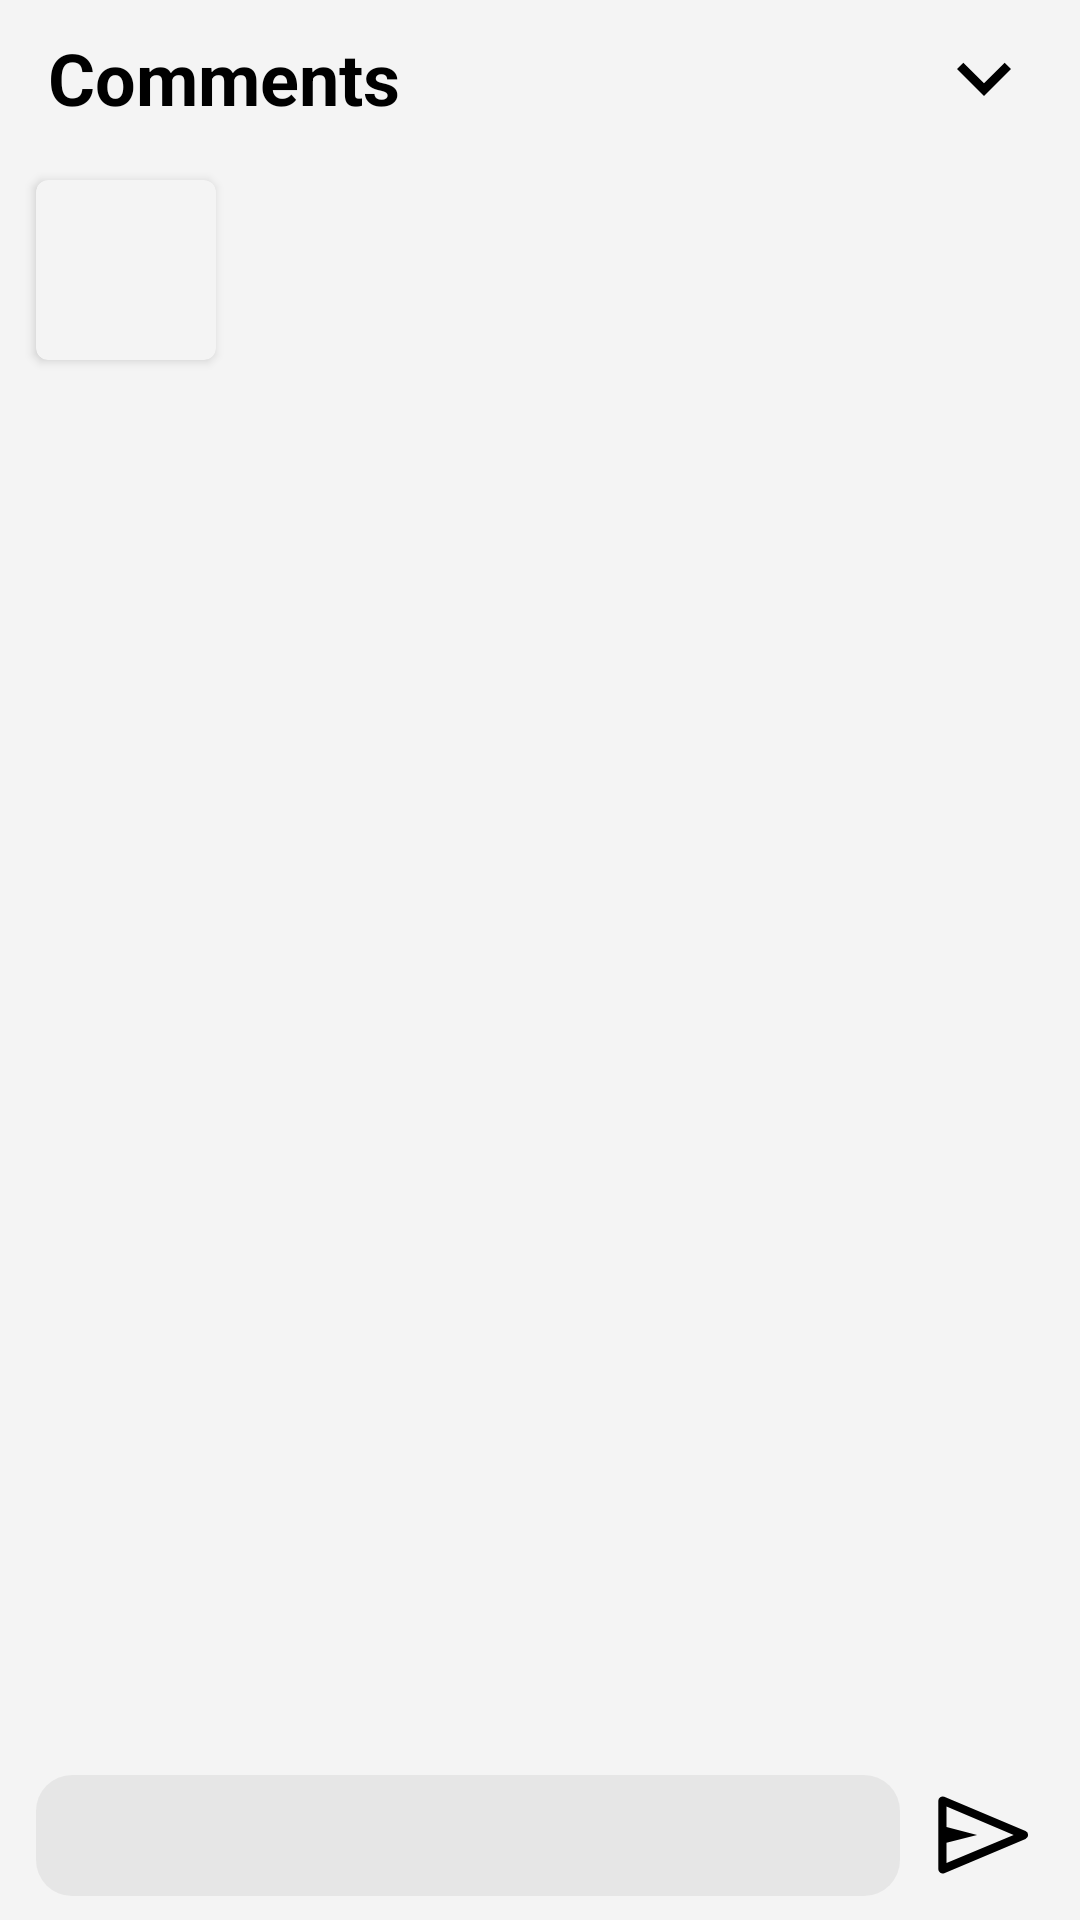

Locate icon controls on the screen. Image size 1080px×1920px, boxes as (x1, y1, x2, y2).
keyboard arrow down: (957, 63, 1011, 96)
send message: (938, 1796, 1028, 1874)
